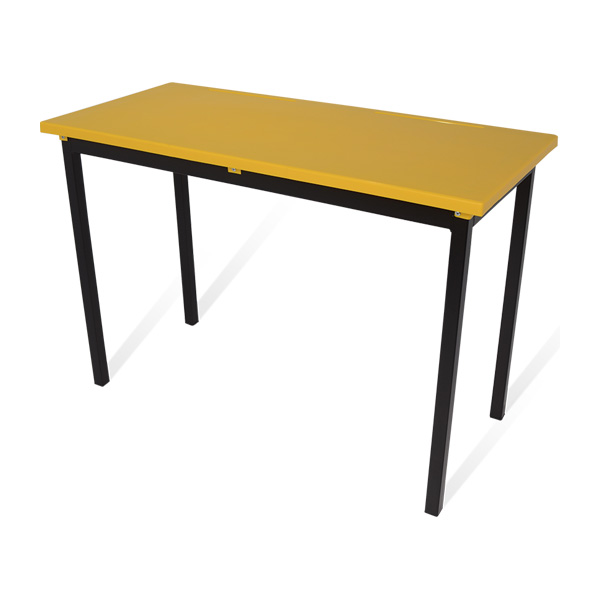m01: (40, 81, 558, 516)
